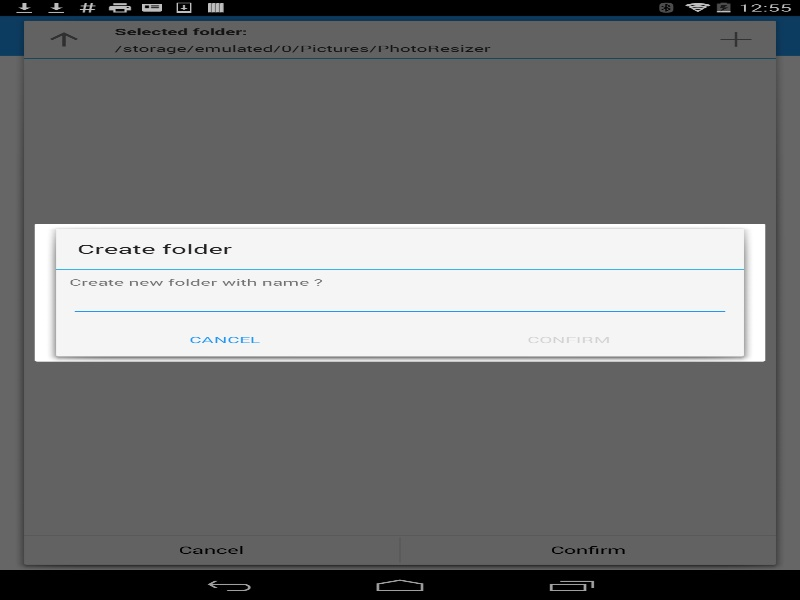Button: (393, 322, 744, 356), (56, 322, 393, 356)
Input: (69, 288, 730, 316)
